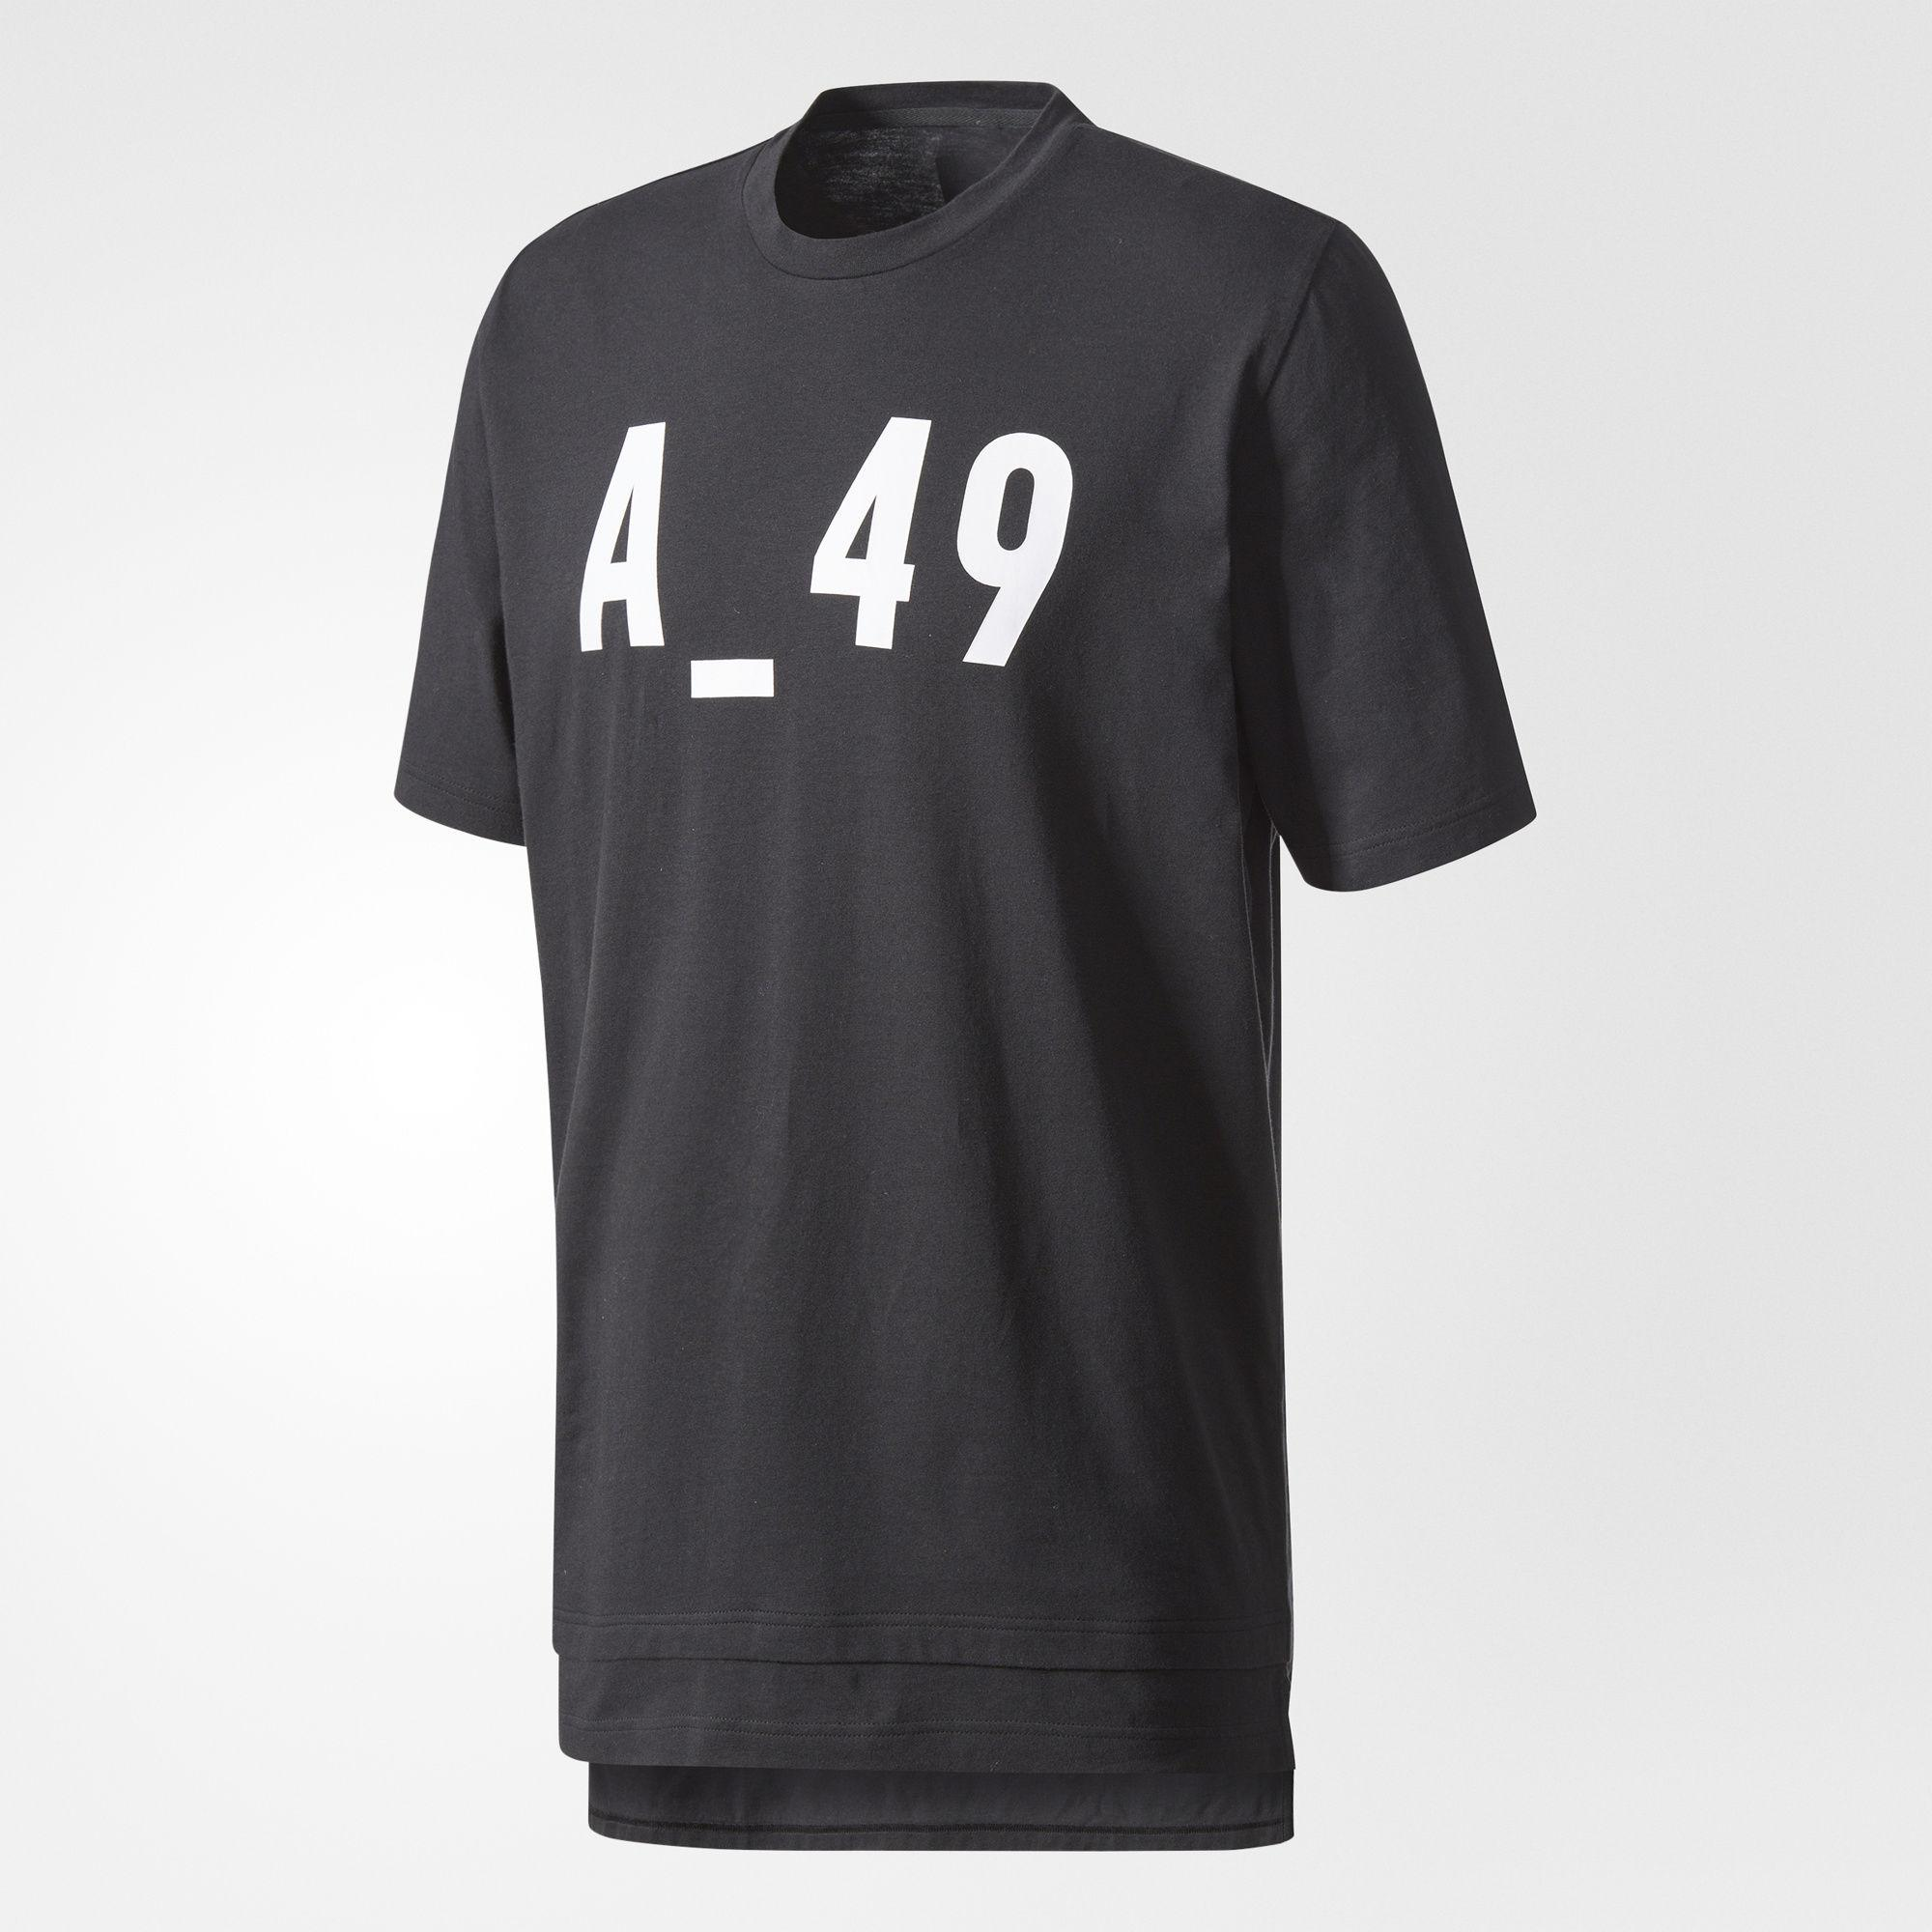teeshirt: (373, 69, 1569, 1861)
